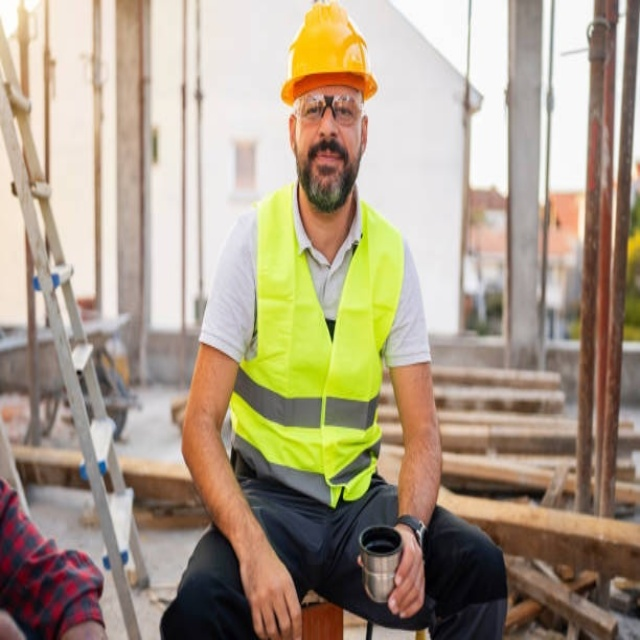Gafas: (293, 88, 367, 124)
Sin_guantes: (233, 536, 305, 632), (390, 518, 427, 618)
Sin_mascara: (308, 140, 347, 190)
